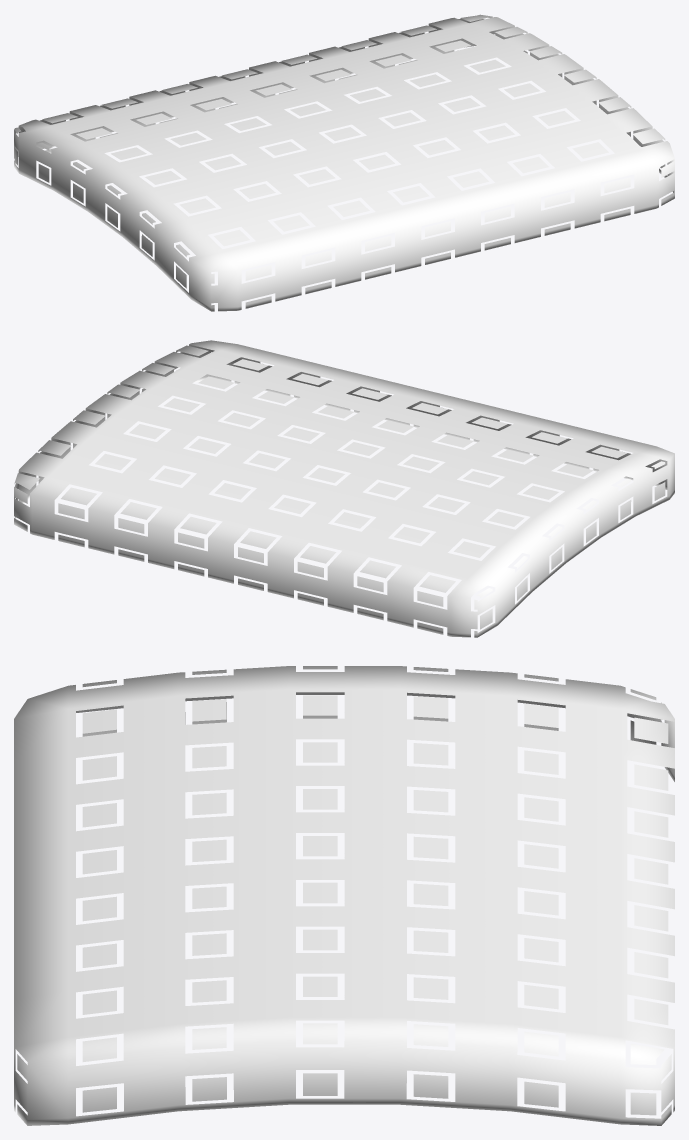
File: fobj_base.dae
3 views of the same model, one above another, from view 1: azimuth 30°, elevation 25°; view 2: azimuth 150°, elevation 25°; view 3: azimuth 270°, elevation 25° (orthographic). The views are drawn at different scales.
Parts seen in each view (by area): view 1: fobj_base; view 2: fobj_base; view 3: fobj_base.
Part boxes in pixels (left/top/right/bottom): fobj_base: left=14, top=14, right=674, bottom=311; fobj_base: left=14, top=340, right=674, bottom=637; fobj_base: left=14, top=666, right=674, bottom=1125.
Size of the model in its own units: 256 by 29.7 by 191.
3 materials, 3 textured.
